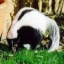skunk: (8, 7, 60, 51)
